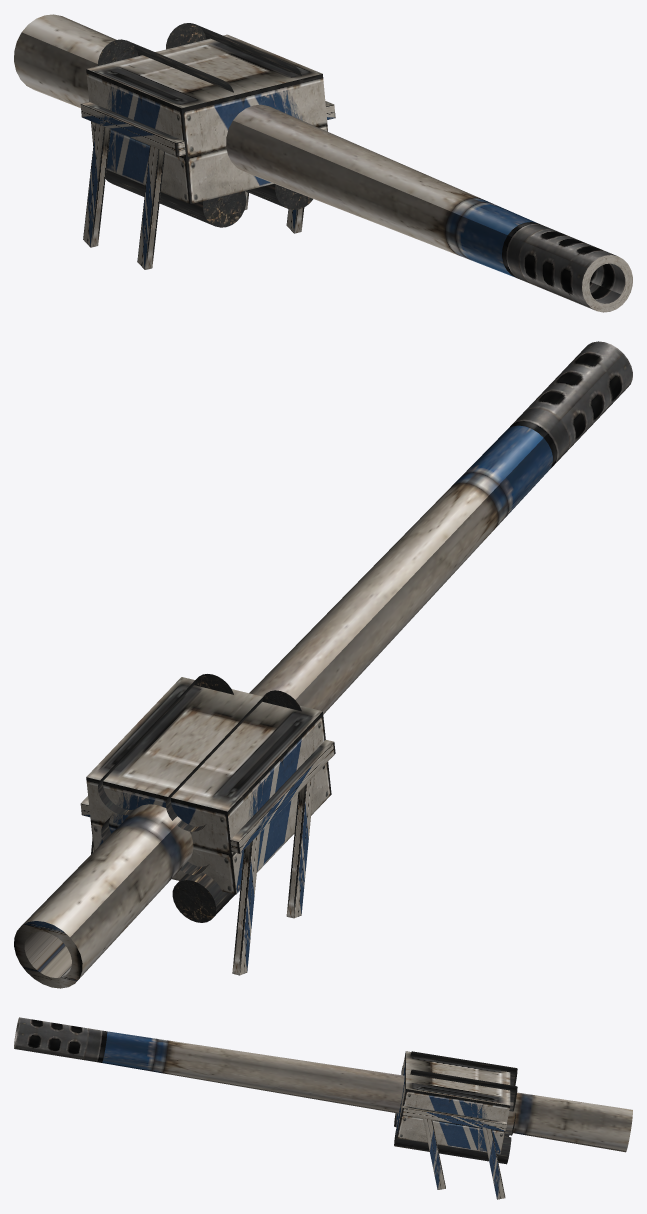
The model's file is titan_towe.dae.
3 views of the same model, one above another, from view 1: azimuth 30°, elevation 25°; view 2: azimuth 150°, elevation 25°; view 3: azimuth 270°, elevation 25° (orthographic). The views are drawn at different scales.
Visible parts, largest first — view 1: Cylinder; view 2: Cylinder; view 3: Cylinder.
Boxes of the visible parts, x1=… form: Cylinder: x1=14, y1=14, x2=632, y2=312; Cylinder: x1=14, y1=341, x2=632, y2=988; Cylinder: x1=14, y1=1017, x2=632, y2=1199.
Size of the model in its own units: 3 by 18.54 by 5.29.
